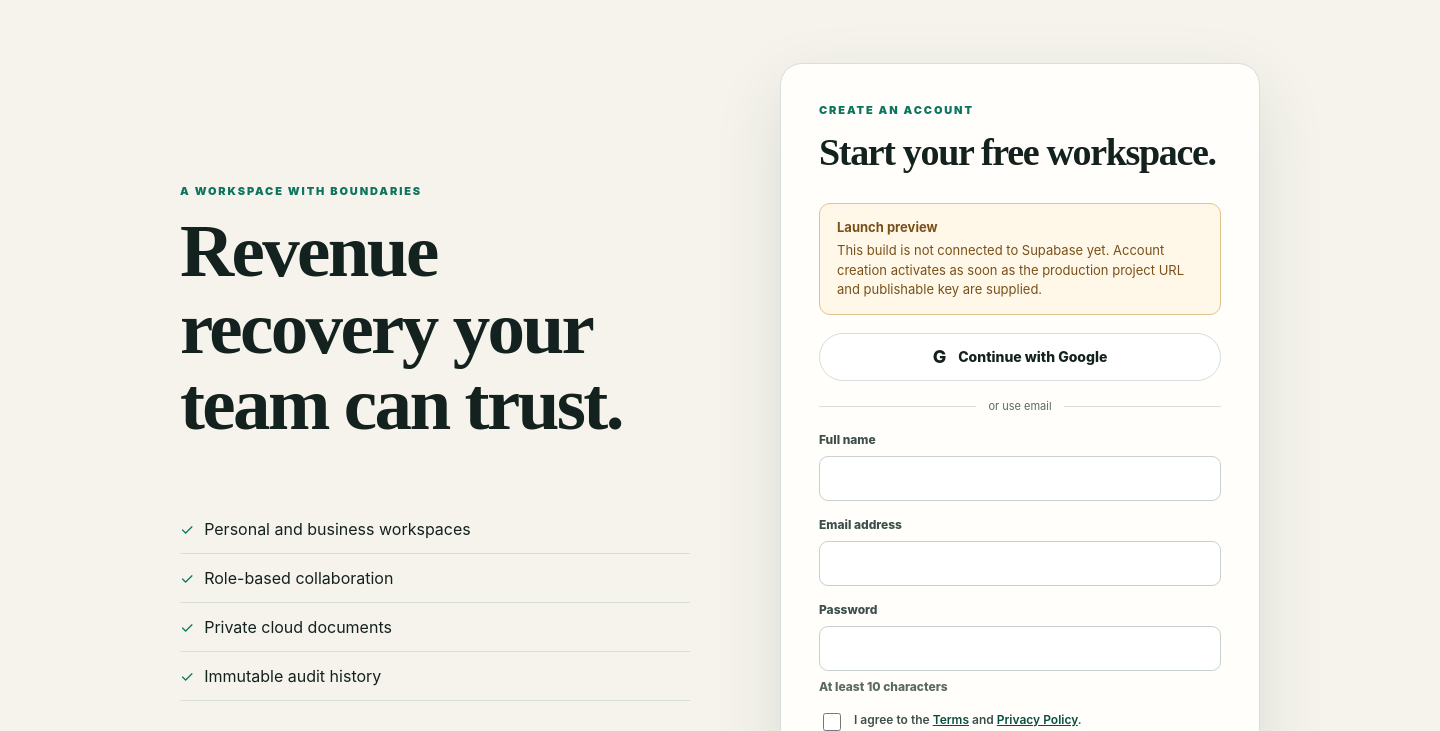
email signup › allows a completed signup form to create an account
The image size is (1440, 731).
In the field labelled "Full name": (1020, 479) [819,456,1221,501], type "Taylor Morgan"
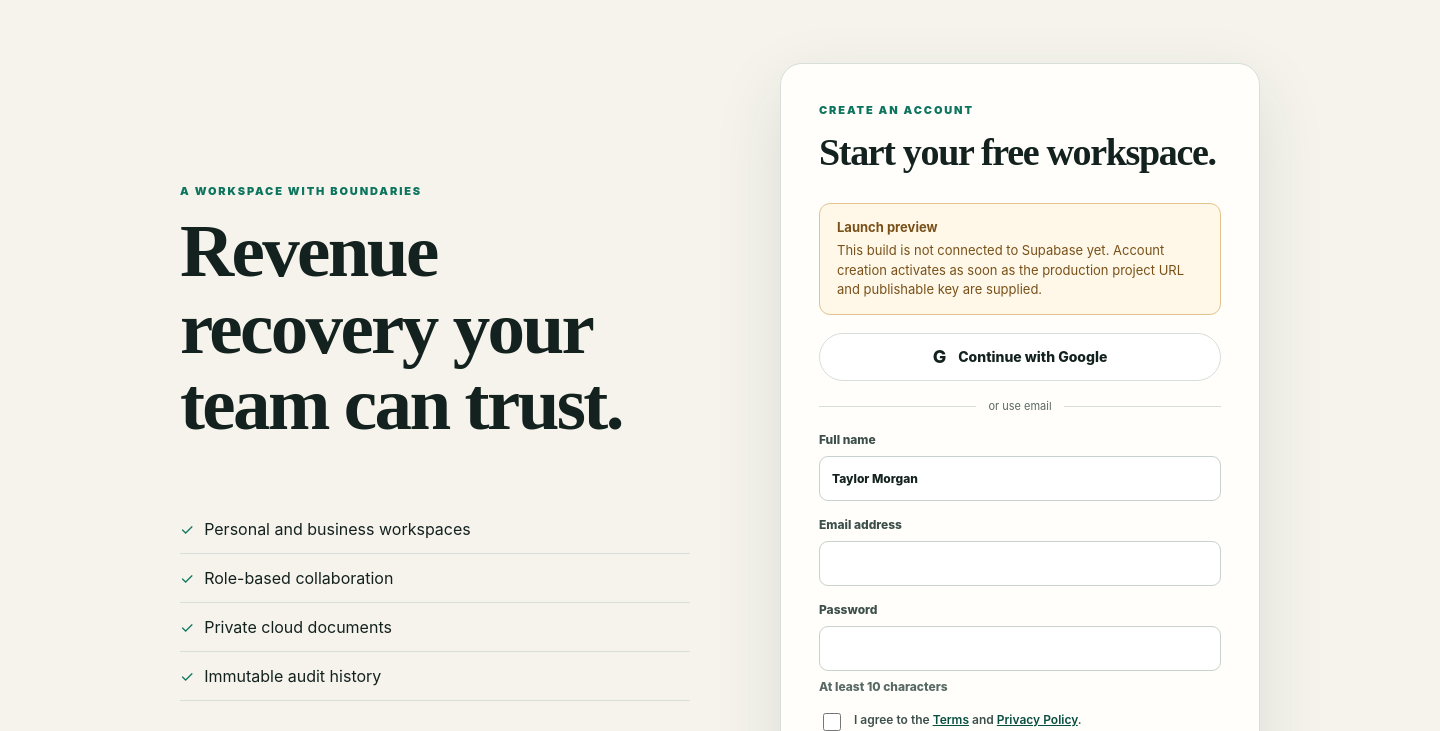
In the field labelled "Email address": (1020, 564) [819,541,1221,586], type "taylor@example.com"
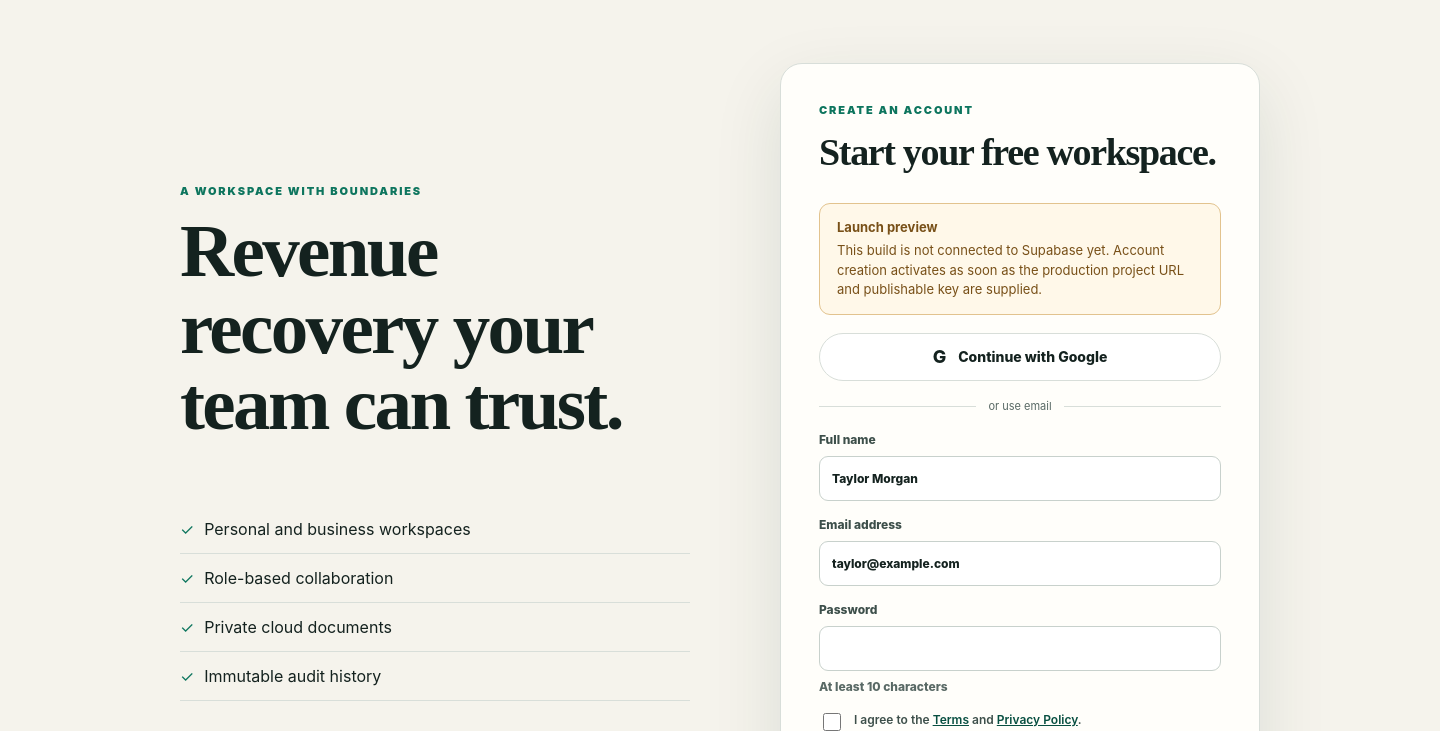
In the password field labelled "Password At least 10 characters": (1020, 649) [819,626,1221,671], type "correct-horse-battery-staple"
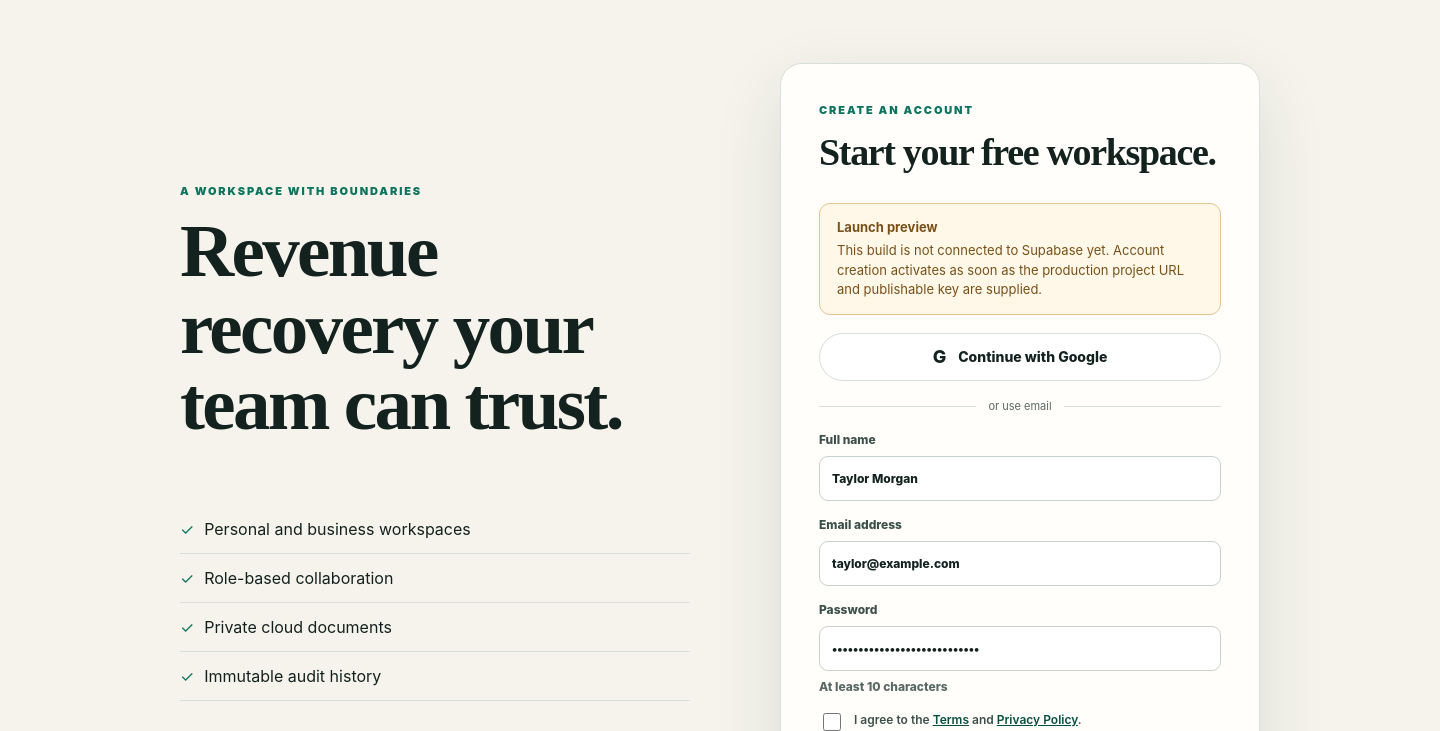
Click the checkbox: click(832, 722) [823,713,841,730]
(page scrolled)
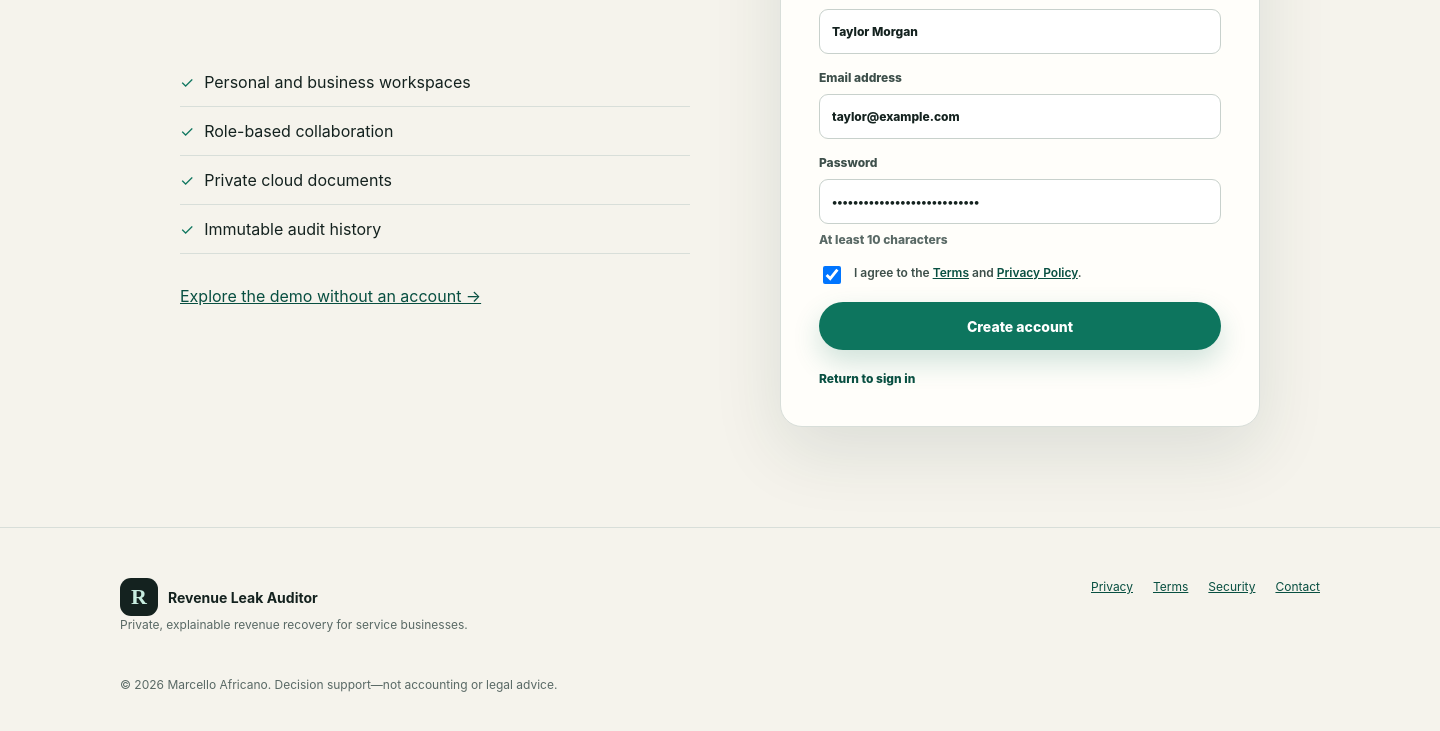
Click the button "Create account": click(1020, 326) [819,302,1221,350]
(page scrolled)
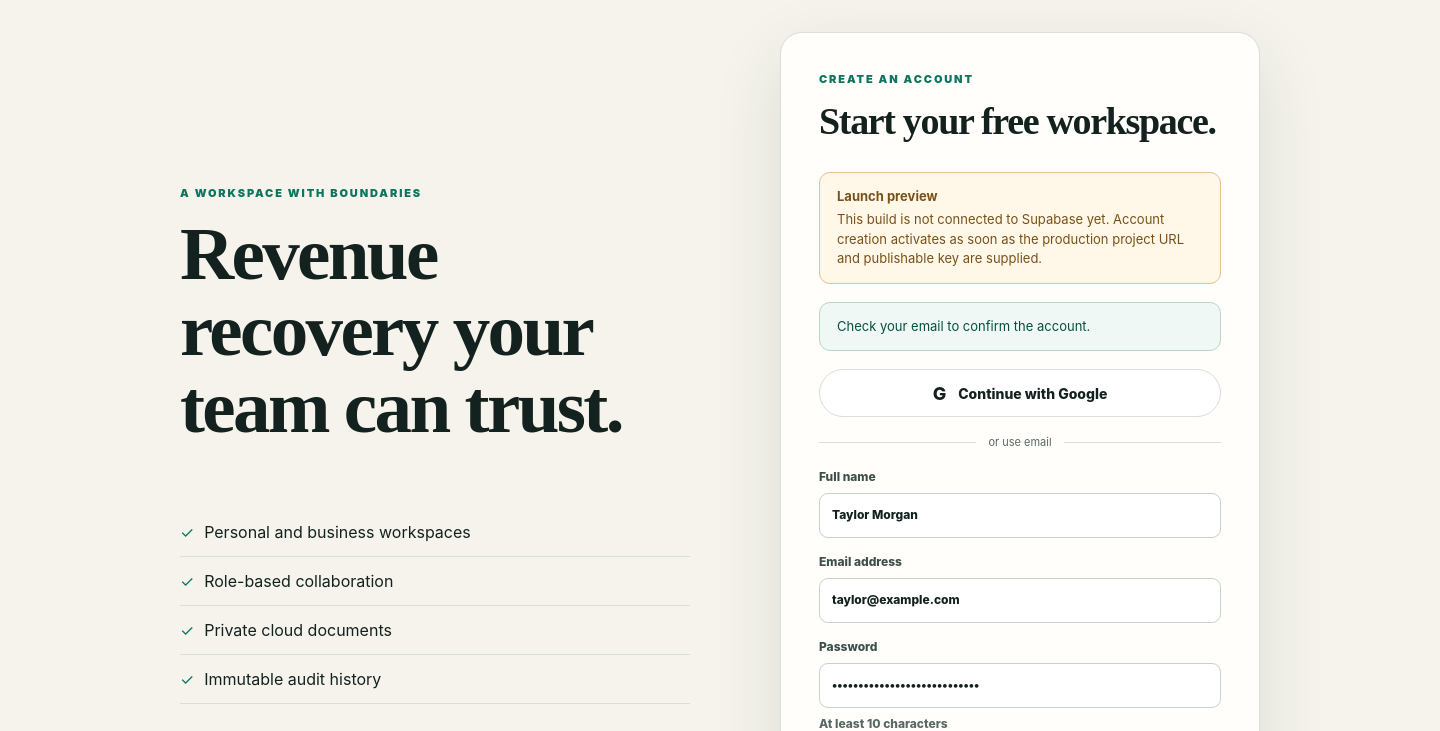
Now the text "Check your email to confirm the account." is shown, box [819,302,1221,351]
